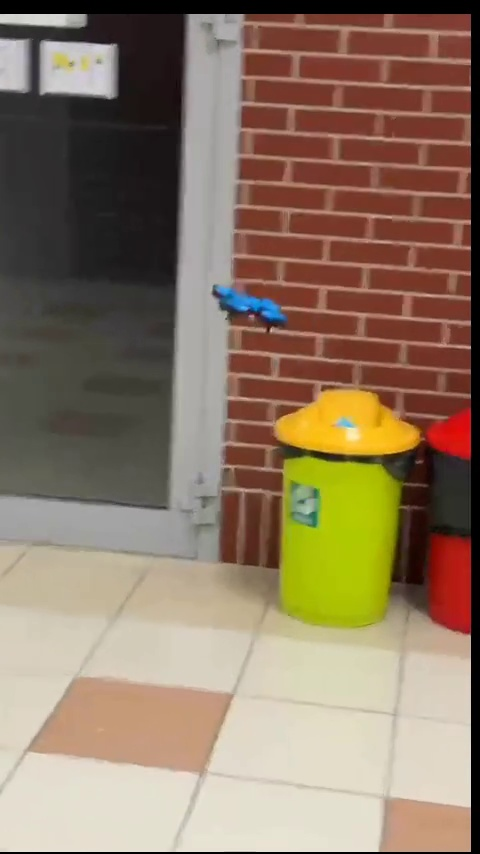drone: (210, 283, 287, 337)
